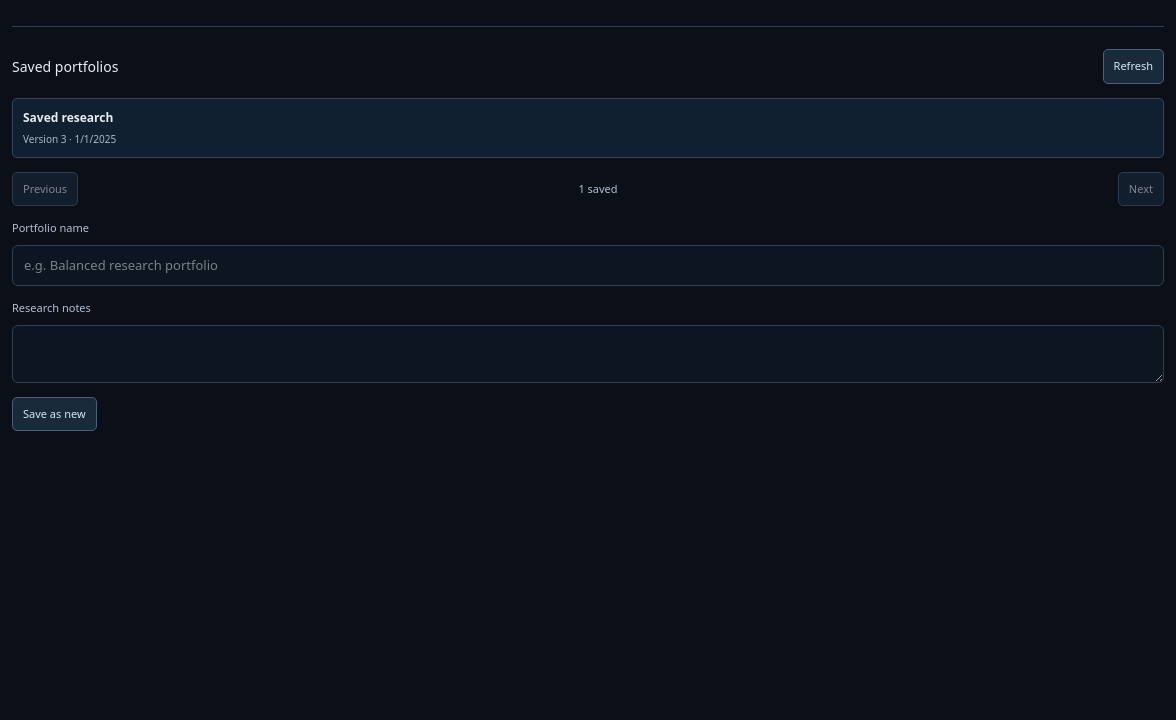
Scenario: requires explicit confirmation before deleting
What coordinates should you click on to do the following:
click the button "Saved research Version 3 · 1/1/2025"
I would click on:
 (68, 117)
Its box is [12,98,1164,158].
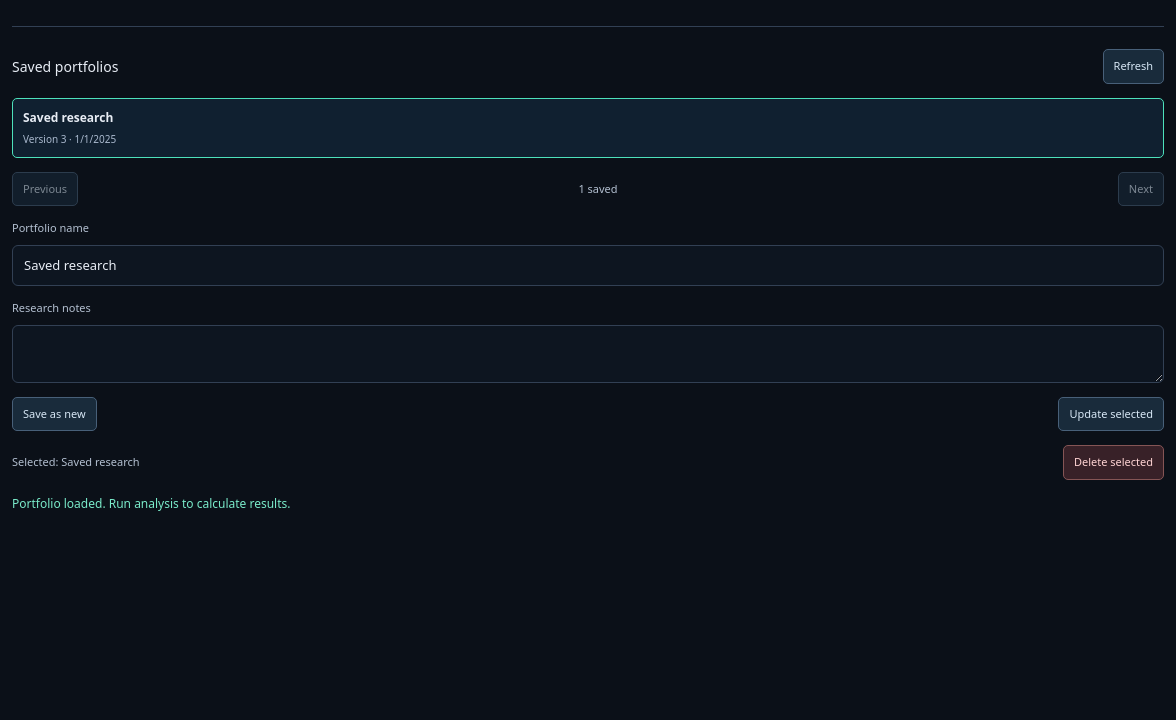
What coordinates should you click on to do the following:
click the button "Delete selected"
I would click on:
 (1114, 463)
Its box is [1063,445,1164,480].
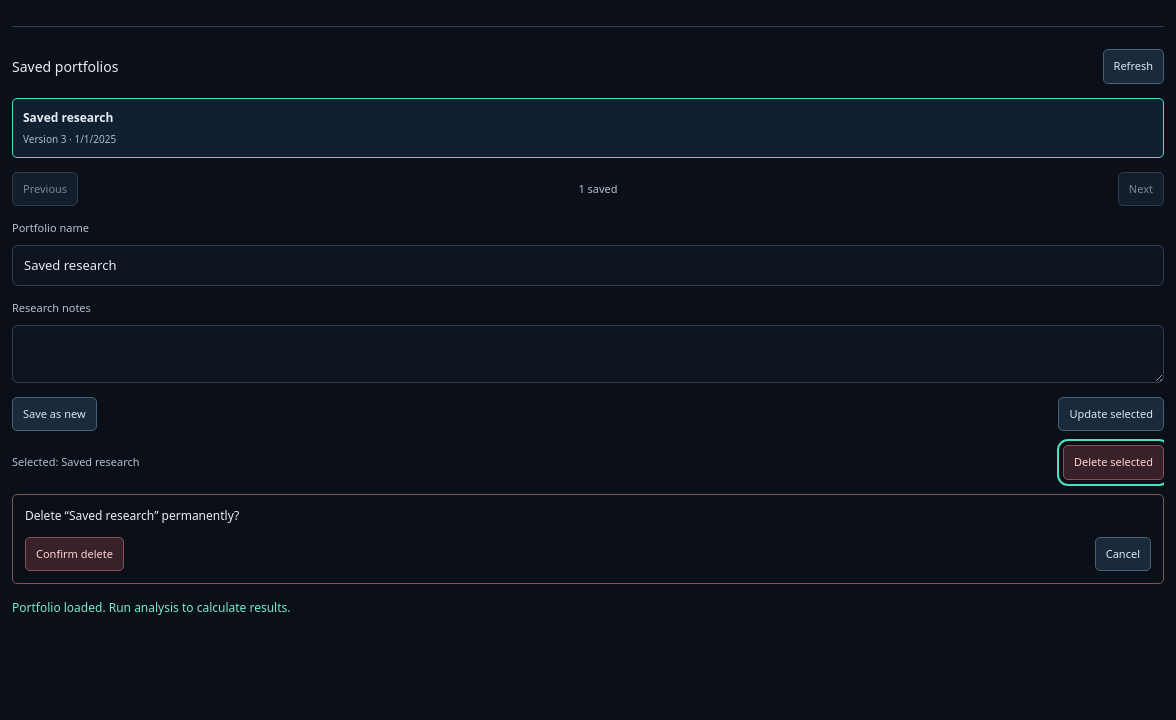
What coordinates should you click on to do the following:
click the button "Cancel"
I would click on:
 (1123, 554)
Its box is [1095,537,1151,571].
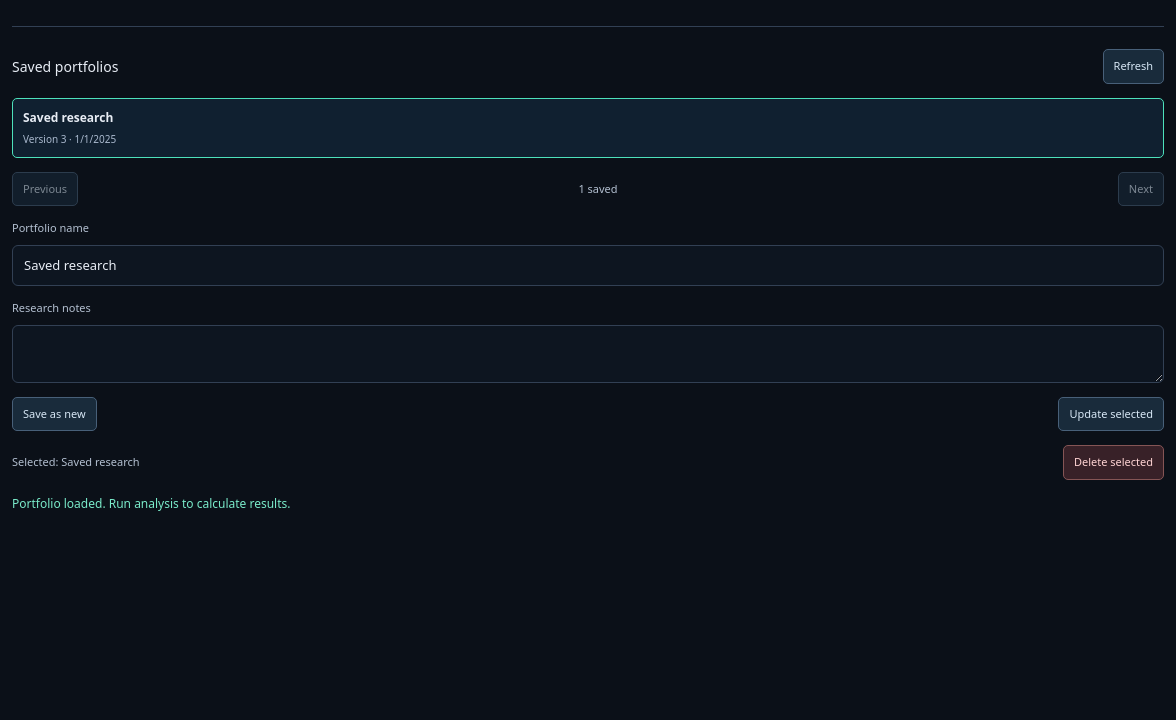
Now the button "Confirm delete" is gone
What coordinates should you click on to do the following:
click the button "Delete selected"
I would click on:
 (1114, 463)
Its box is [1063,445,1164,480].
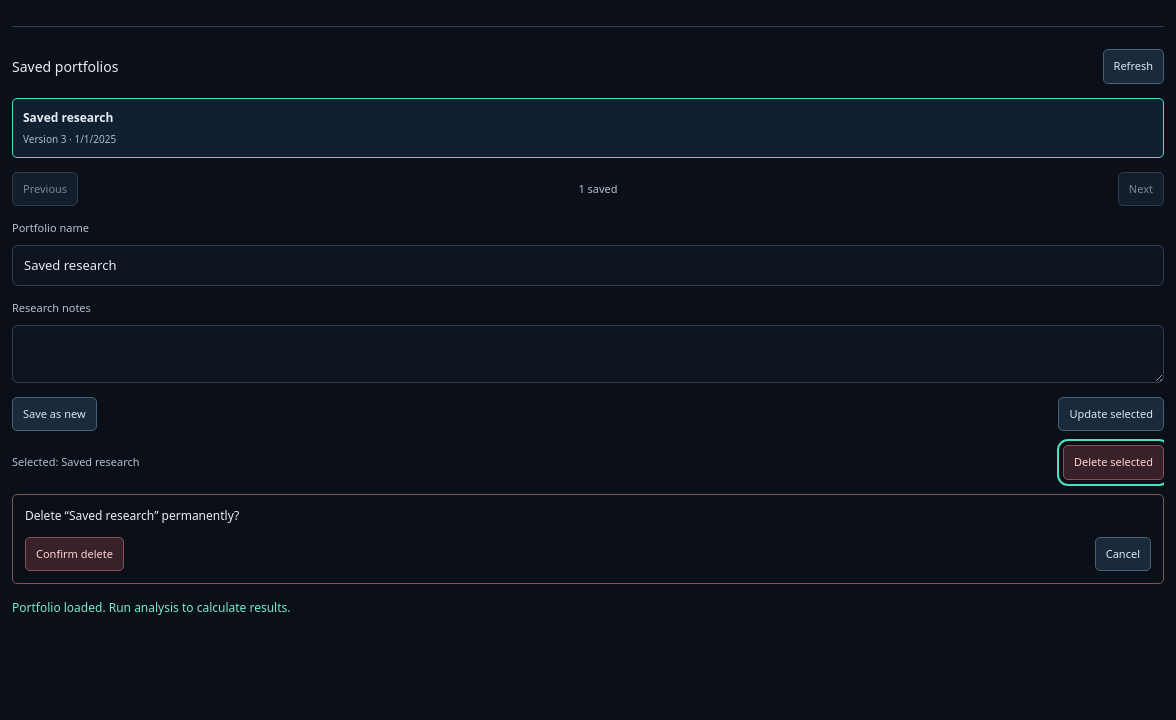
What coordinates should you click on to do the following:
click the button "Confirm delete"
I would click on:
 (74, 554)
Its box is [25,537,124,571].
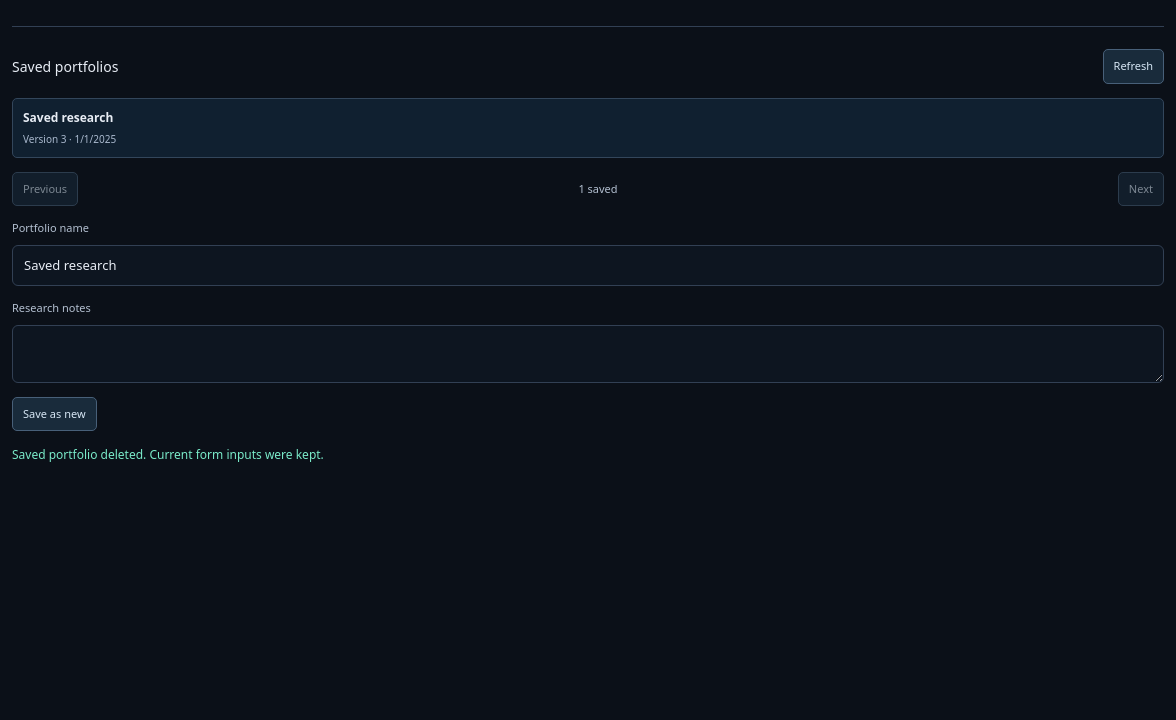
Now the text "Saved portfolio deleted. Current form inputs were kept." is shown, box [12,446,324,463]
